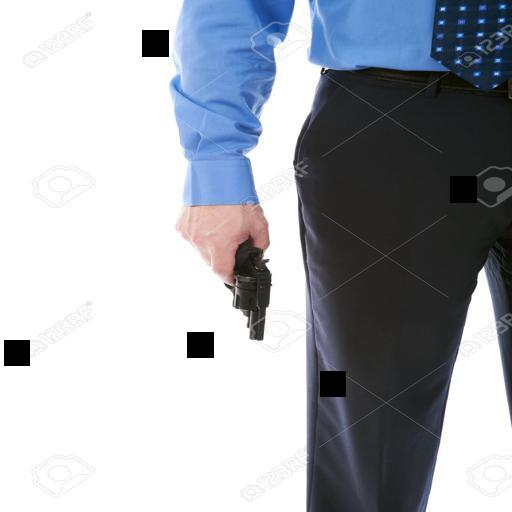Handgun: (206, 226, 277, 339)
